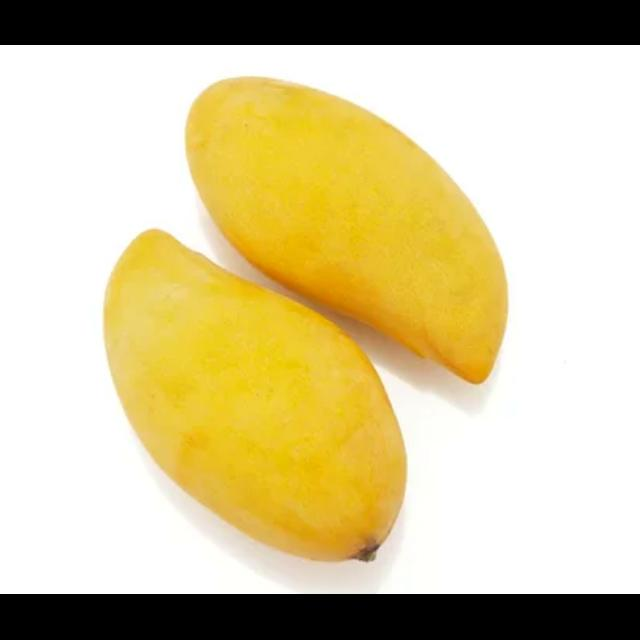mango: (99, 222, 412, 565), (183, 75, 514, 390)
